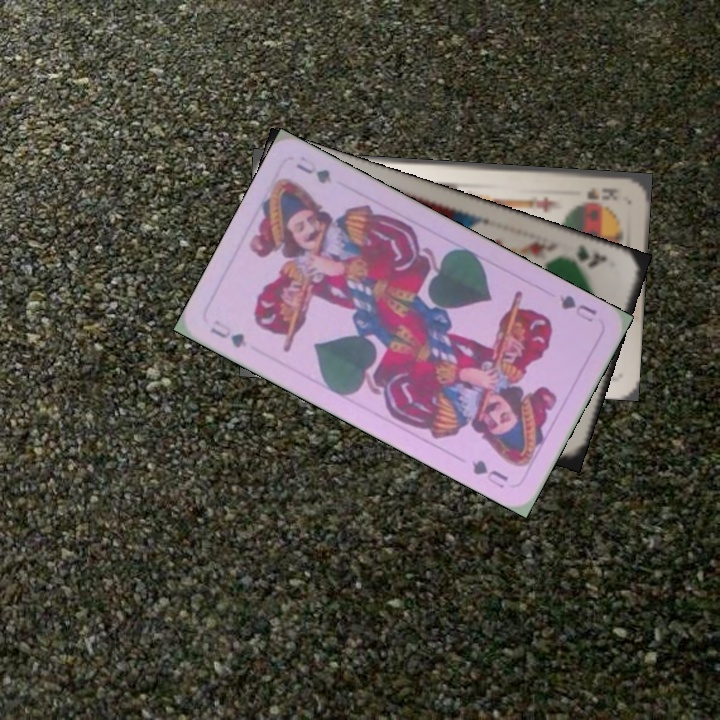GK: (573, 240, 609, 270)
GU: (206, 315, 250, 351), (555, 291, 600, 325)
SK: (583, 183, 621, 203)
